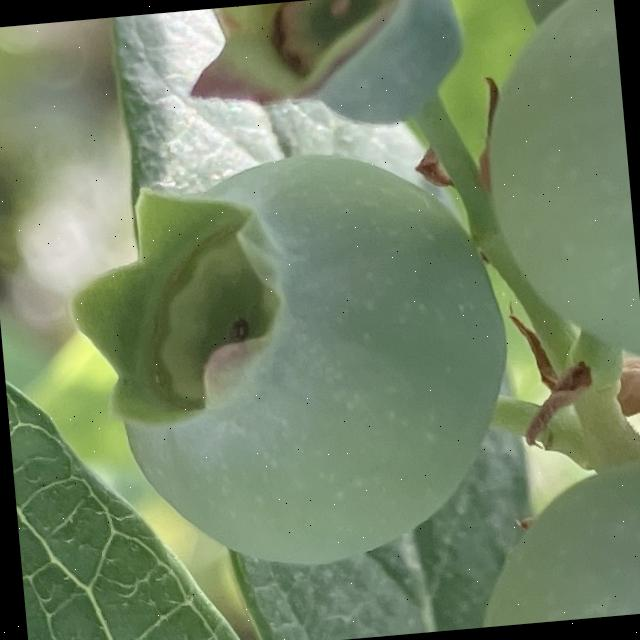Blueberries: (68, 138, 528, 586), (465, 0, 640, 393)
